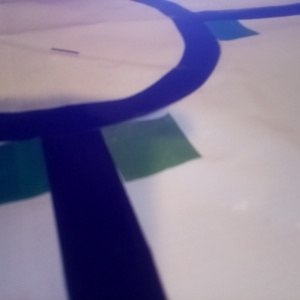bottom_right: (183, 18, 264, 47)
